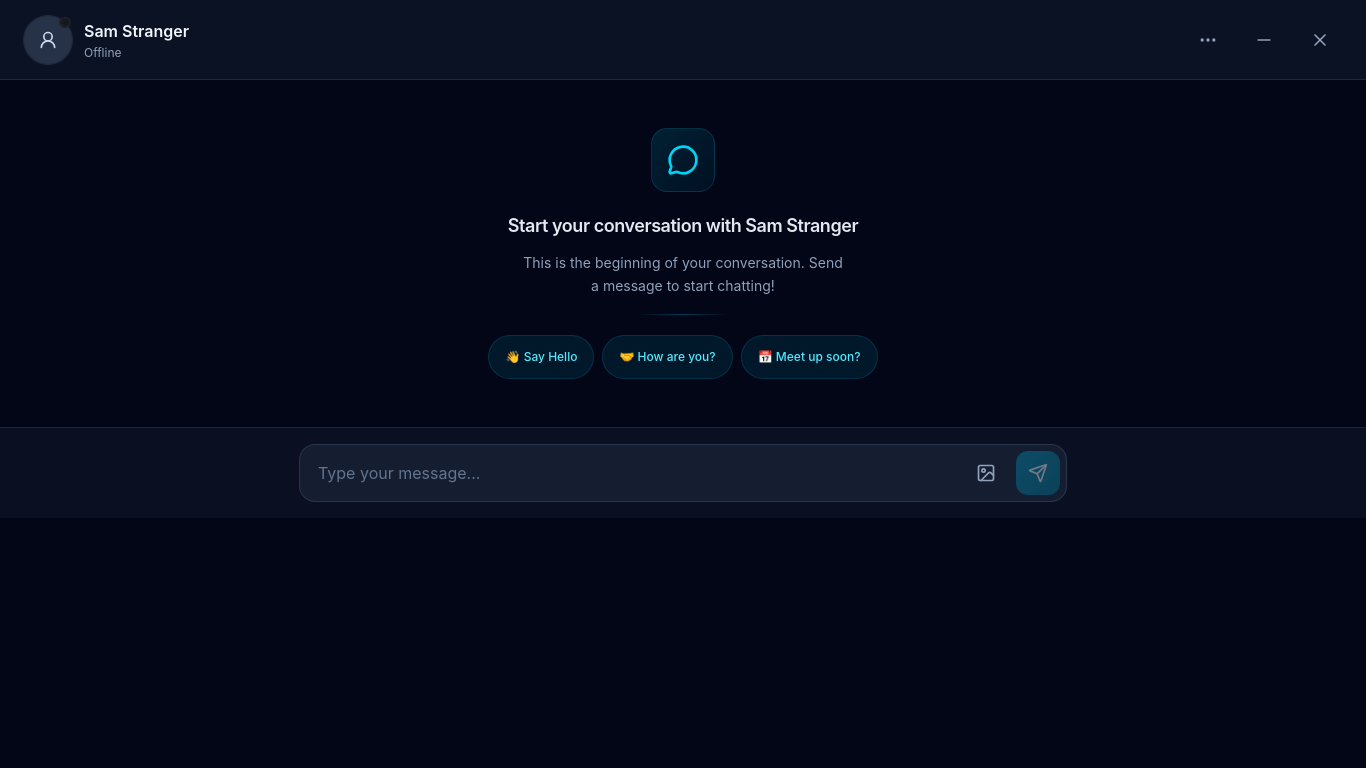
Scenario: Conversation menu and blocked conversations › deleting the chat › Escape cancels the dialog without closing the conversation
Click the button named "More actions for Sam Stranger".
click(1208, 40)  # box [1186,18,1230,62]
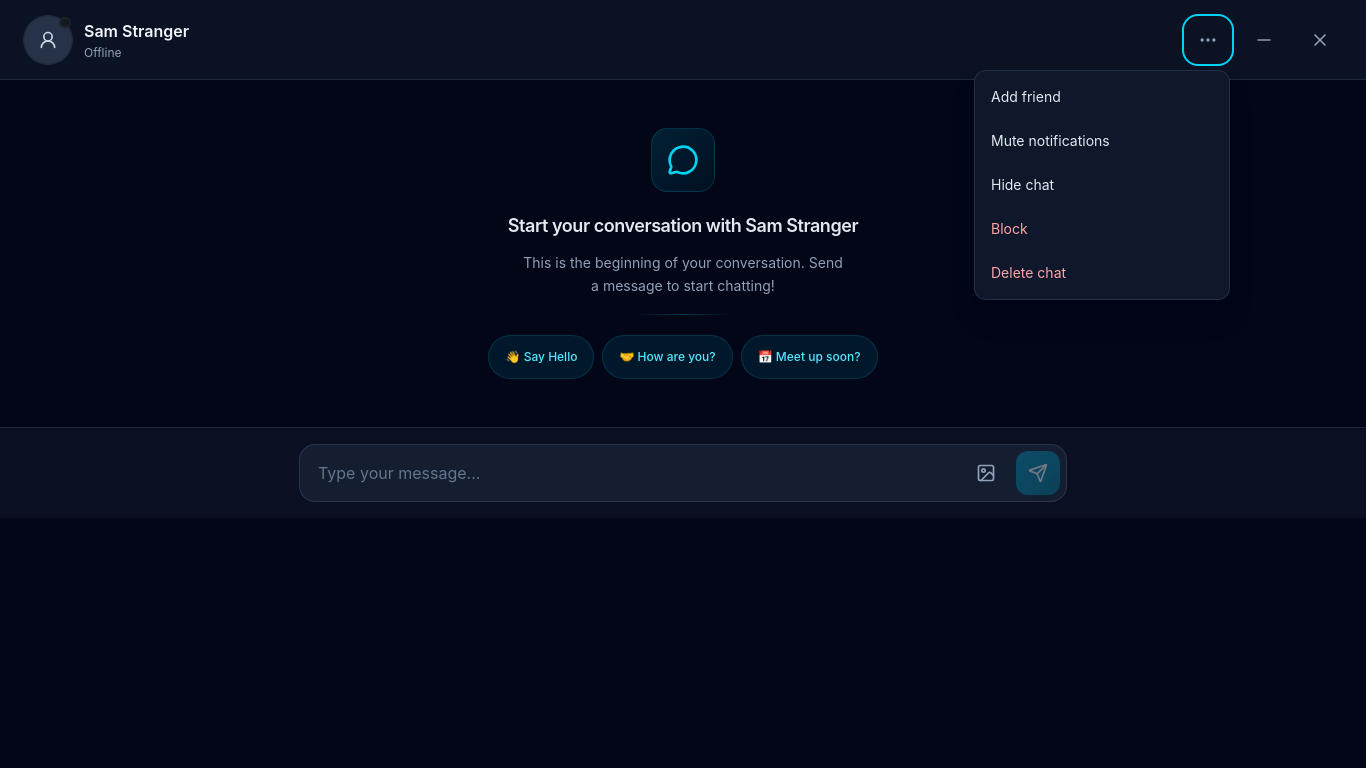
Click the button "Delete chat".
click(1102, 272)  # box [979,250,1225,294]
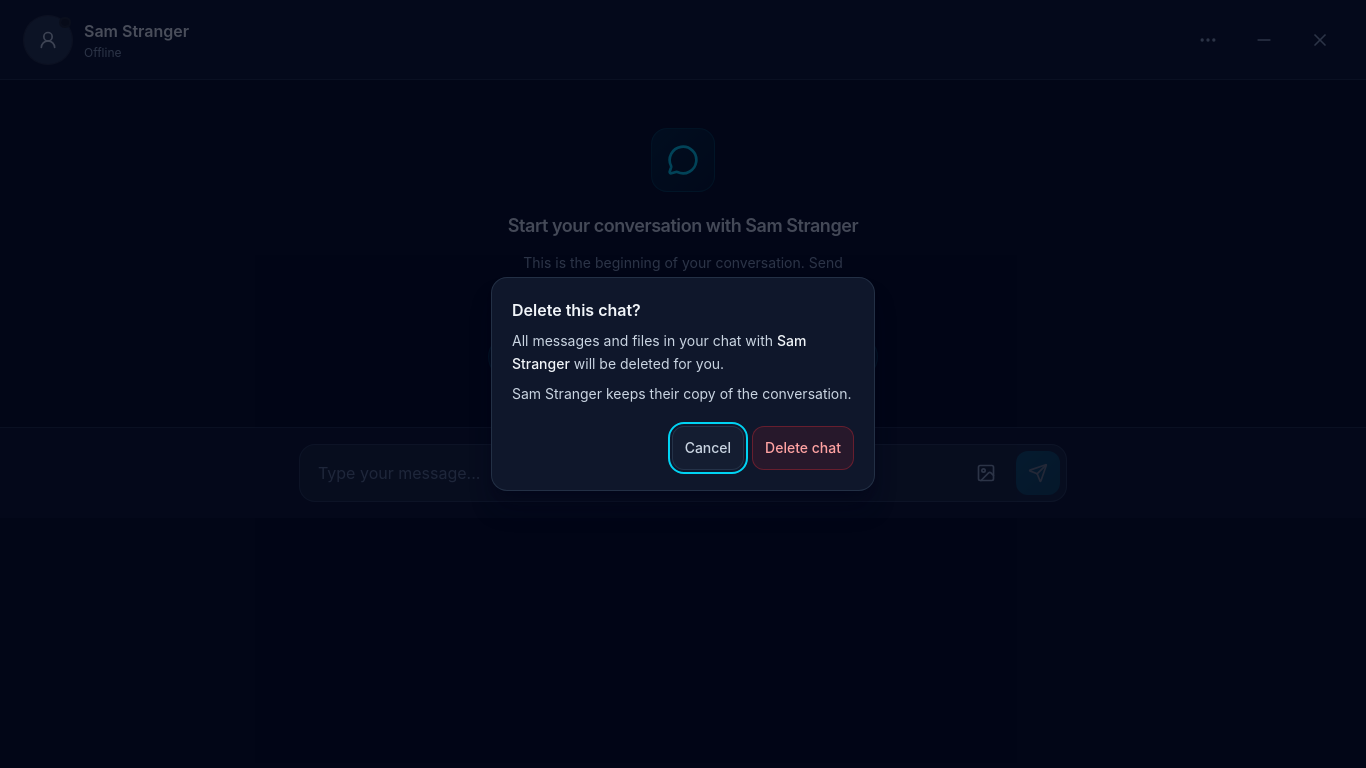
Press Escape
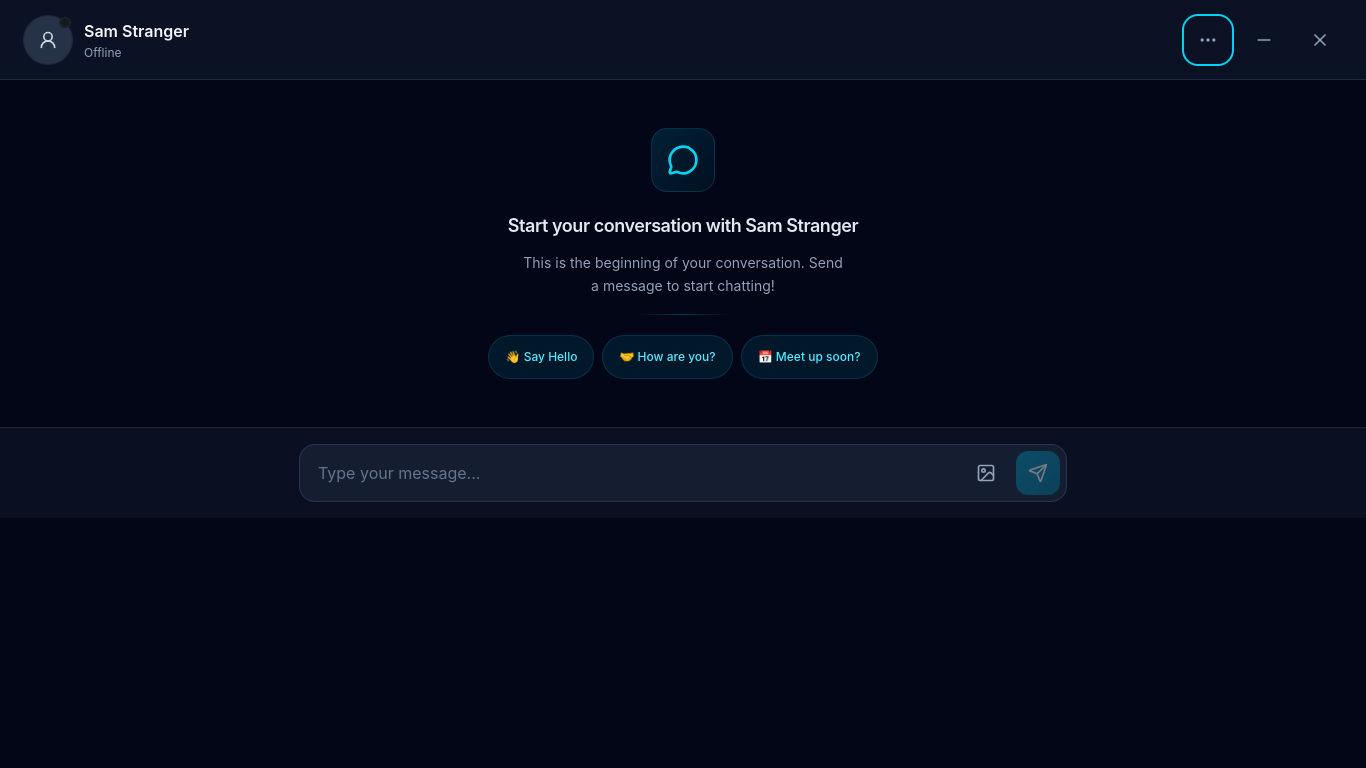
Expected: the dialog is gone
